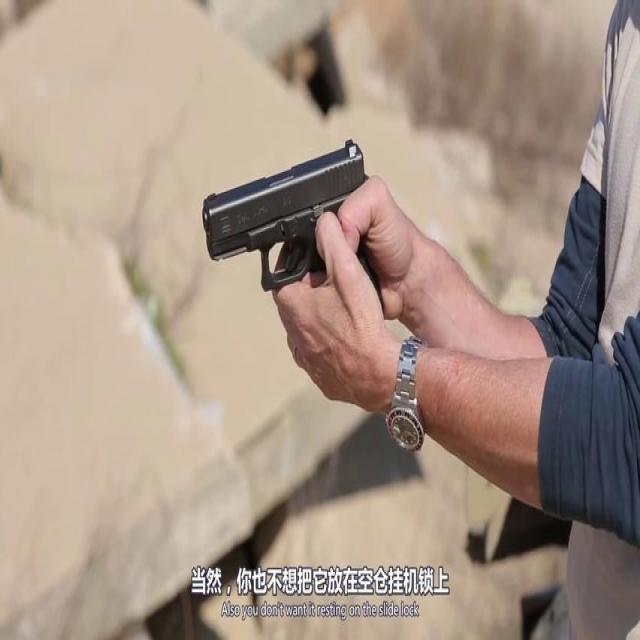Handgun: (190, 131, 386, 321)
